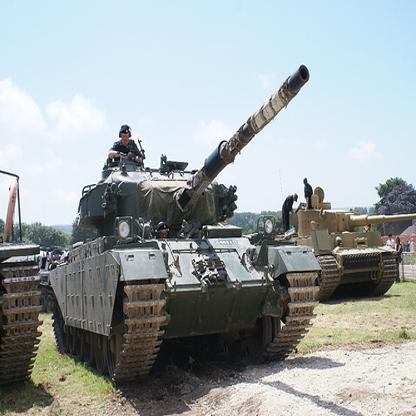Tank: (51, 66, 322, 390), (274, 178, 416, 311), (1, 162, 46, 406)
